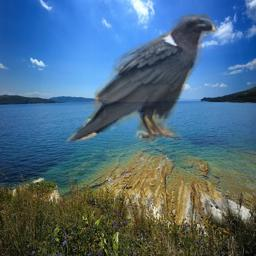Crow: (65, 14, 218, 149)
